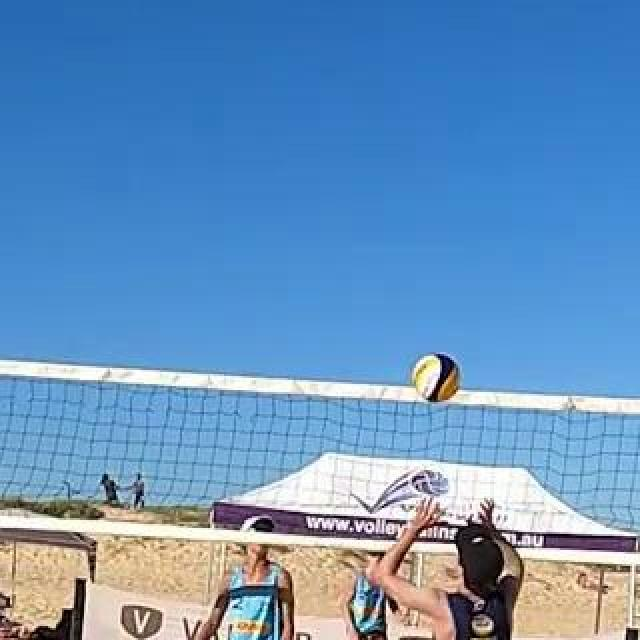volleyball: (412, 354, 460, 402)
